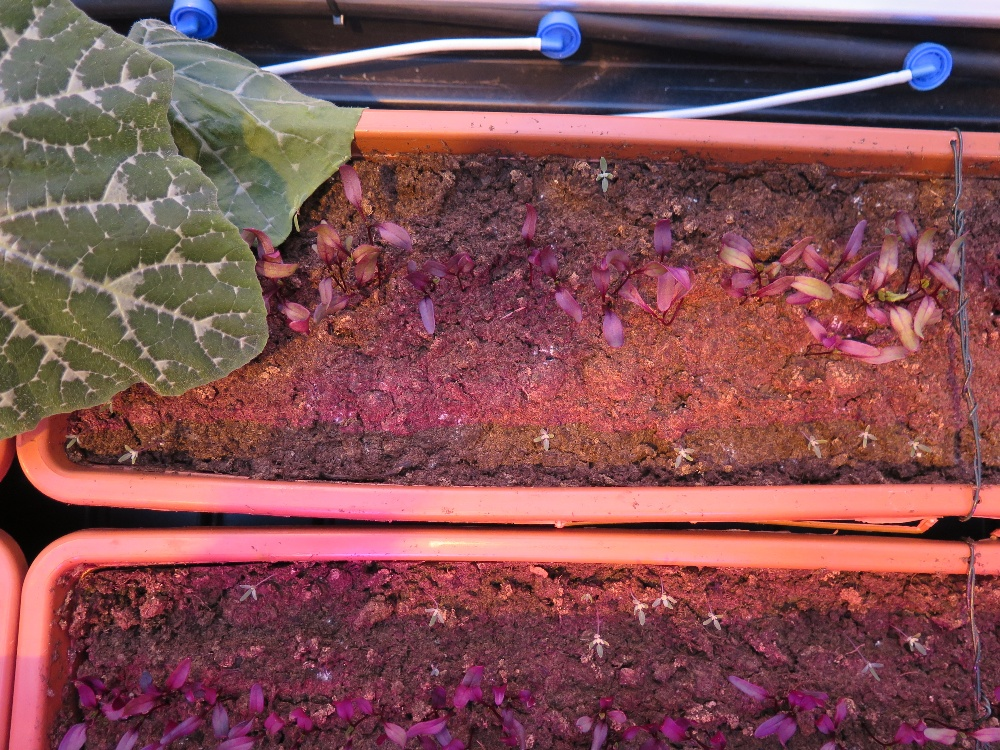crop: (318, 145, 507, 361), (230, 197, 443, 354), (471, 176, 655, 356), (789, 192, 962, 383), (577, 188, 714, 326), (262, 647, 425, 750), (407, 642, 552, 750), (173, 651, 300, 750), (71, 661, 207, 750), (723, 661, 857, 750), (691, 226, 827, 308), (864, 681, 1000, 750), (889, 220, 982, 311), (580, 690, 682, 750)
weed: (225, 567, 287, 608), (905, 426, 950, 474), (580, 613, 623, 663), (589, 149, 618, 208), (671, 433, 702, 483), (527, 420, 566, 458), (418, 597, 455, 636), (625, 588, 652, 636), (846, 415, 877, 456), (902, 622, 937, 658), (800, 426, 830, 465), (116, 440, 150, 470), (693, 599, 727, 629), (59, 431, 96, 458), (659, 583, 680, 613)
